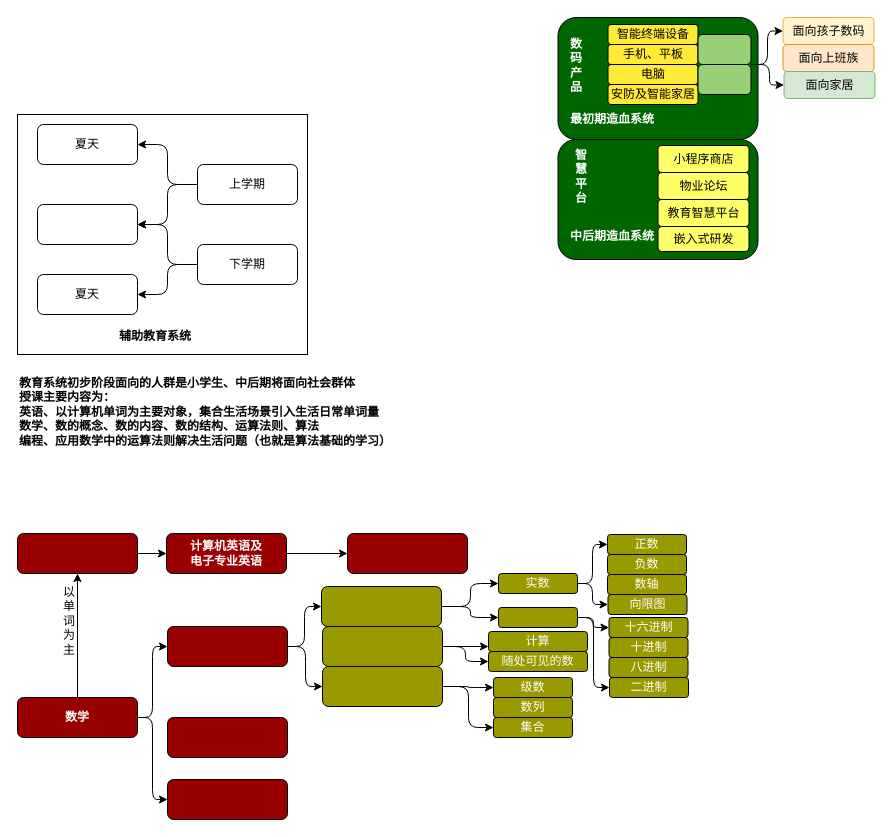
Image size: 893x837. Some labels were removed from this diagram. Each missing label, with the centre of its shape:
冬天: point (87, 224)
函数: point (227, 737)
数的内容: point (381, 606)
数的应用: point (382, 646)
数的概念: point (227, 646)
数的结构: point (382, 686)
数的进制: point (538, 617)
算法: point (227, 799)
维修: point (724, 79)
英语: point (77, 553)
销售: point (724, 49)
随电子设备在生活中的使用衍生生活单词: point (407, 553)
